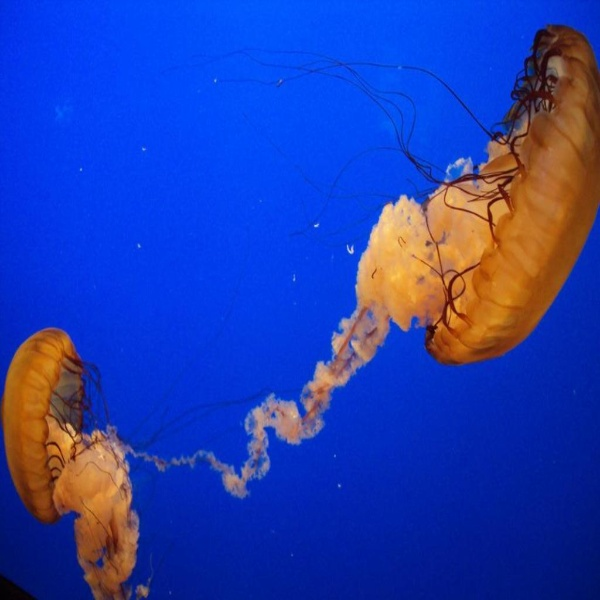Jellyfish: (137, 19, 598, 497), (0, 281, 405, 598)
